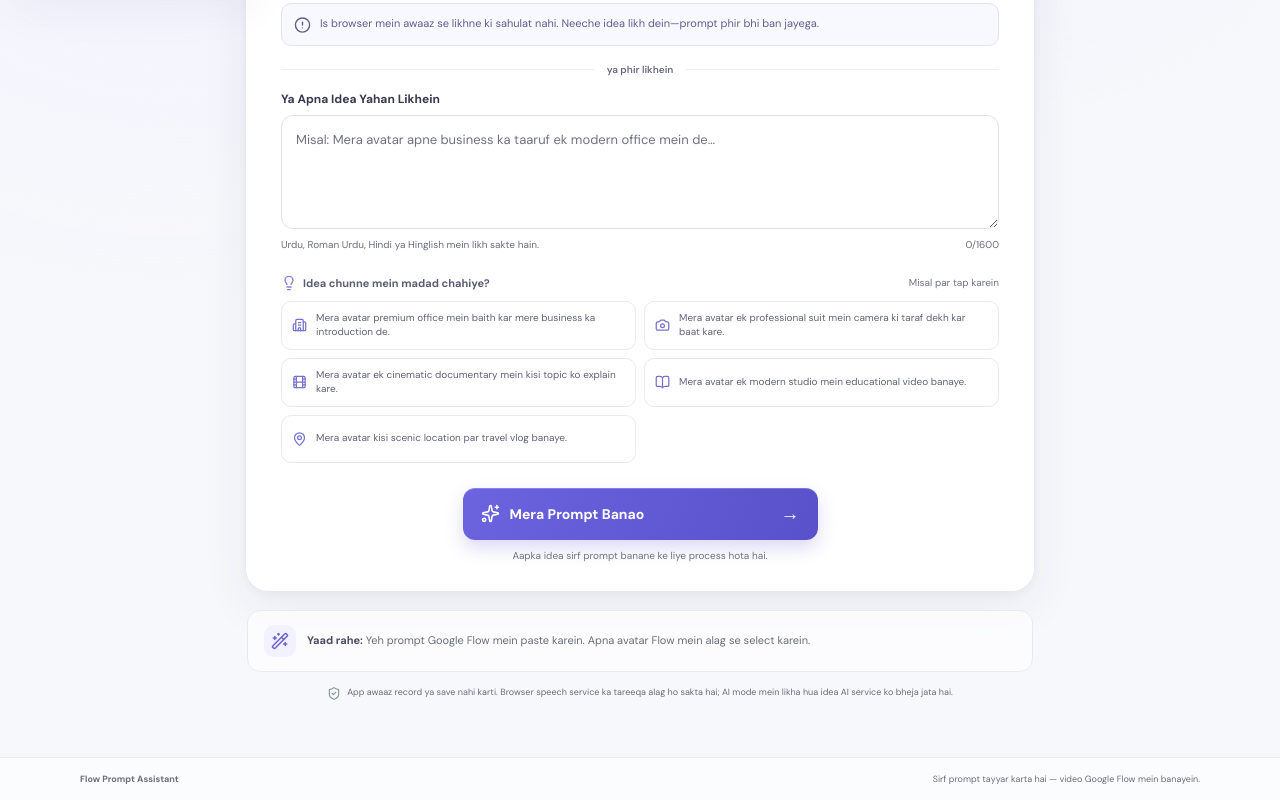
Test: Flow Prompt Assistant workflow › validates an empty idea before making an API request
This screenshot has width=1280, height=800.
(page scrolled)
Click the button "Mera Prompt Banao →" at (640, 514), box [462, 488, 818, 540]
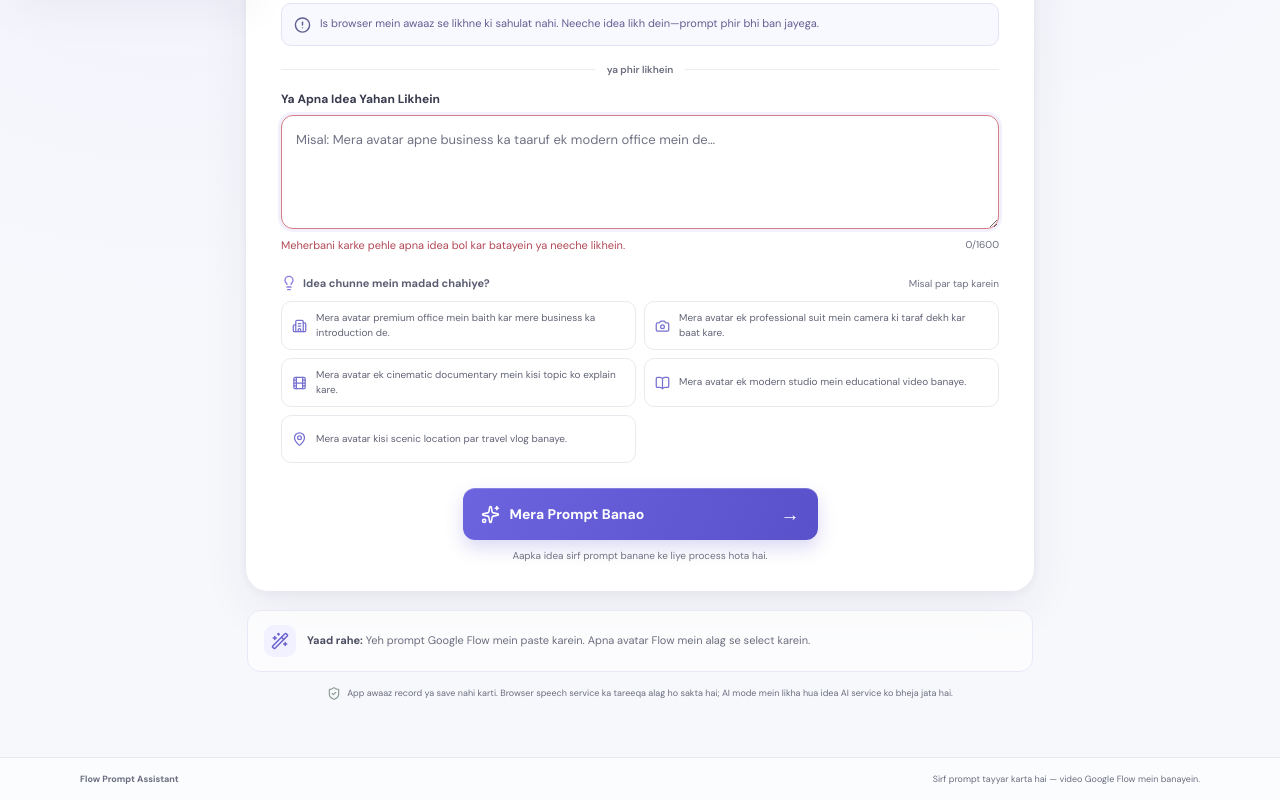
Check: the message shows "Meherbani karke pehle apna idea", box [281, 238, 625, 252]
